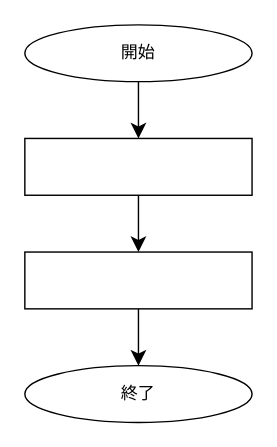
Image size: 277x447. Some labels were removed from this diagram. Each missing label, with the centre of its shape:
consecutiveCountを0に設定: [137,280]
lastDetectedNibbleを-1に設定: [137,166]
